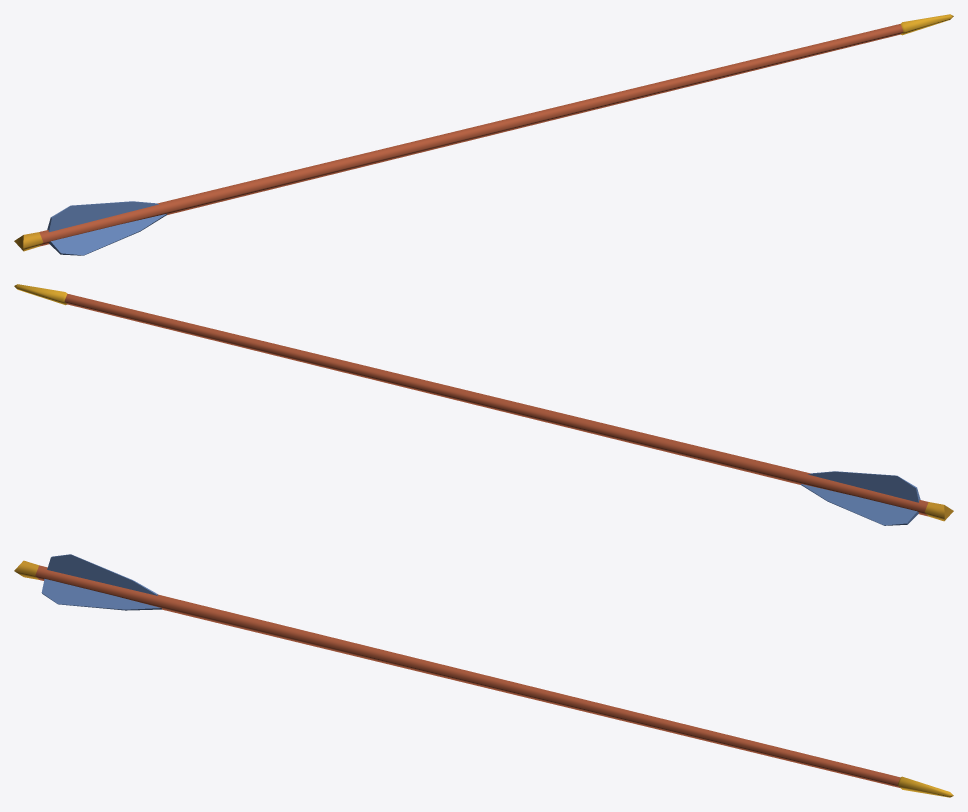
File: BowArrow.FBX
The picture shows the model from 3 angles, top to bottom: view 1: azimuth 30°, elevation 25°; view 2: azimuth 150°, elevation 25°; view 3: azimuth 330°, elevation 25°; orthographic projection.
Parts seen in each view (by area): view 1: BowArrow; view 2: BowArrow; view 3: BowArrow.
Boxes of the visible parts, <box> form: BowArrow: <box>14,14,953,255</box>; BowArrow: <box>14,284,953,525</box>; BowArrow: <box>14,554,953,797</box>.
Size of the model in its own units: 125 by 5.21 by 6.
